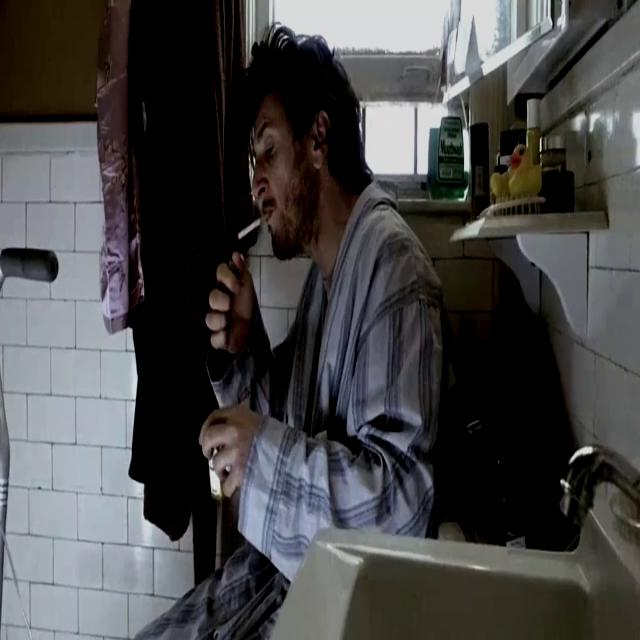Smooking: (233, 206, 272, 250)
